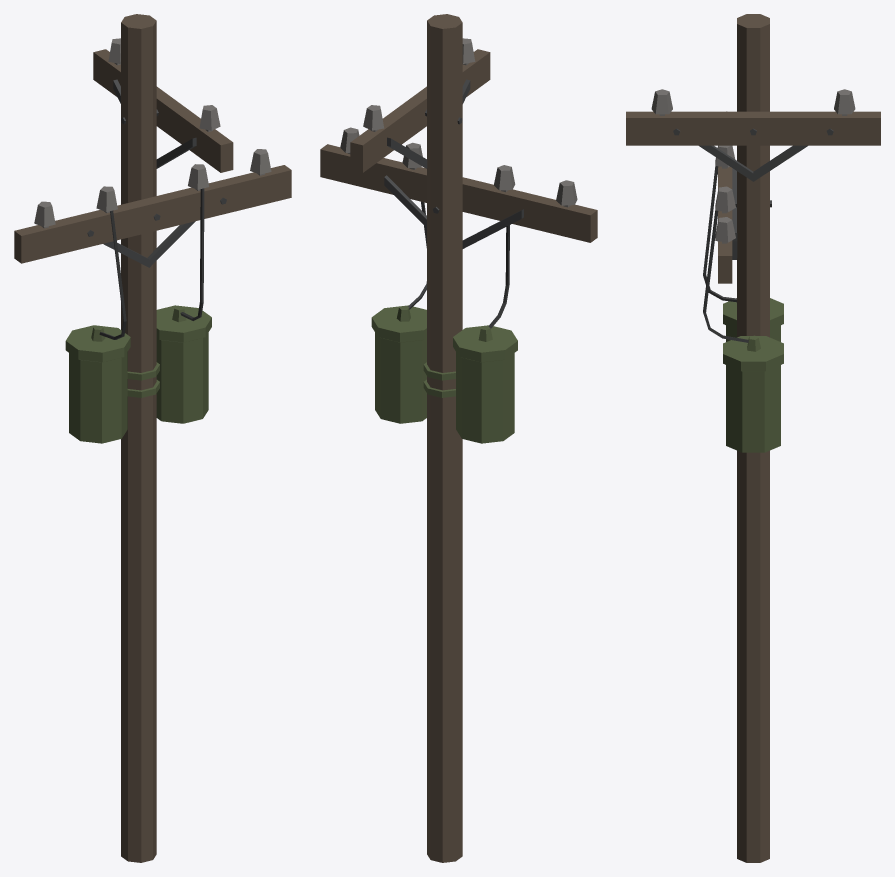
Rendered from SM_Props_Street_UtilityPole_Double_02.fbx.
3 views of the same model, side by side, from view 1: azimuth 30°, elevation 25°; view 2: azimuth 150°, elevation 25°; view 3: azimuth 270°, elevation 25° (orthographic).
Parts seen in each view (by area): view 1: SM_Props_Street_UtilityPole_Double_02; view 2: SM_Props_Street_UtilityPole_Double_02; view 3: SM_Props_Street_UtilityPole_Double_02.
Boxes of the visible parts, x1=… form: SM_Props_Street_UtilityPole_Double_02: x1=14, y1=14, x2=291, y2=862; SM_Props_Street_UtilityPole_Double_02: x1=320, y1=14, x2=597, y2=862; SM_Props_Street_UtilityPole_Double_02: x1=626, y1=14, x2=880, y2=862.
Bounding box in the file's own units: 260 × 768 × 212.
